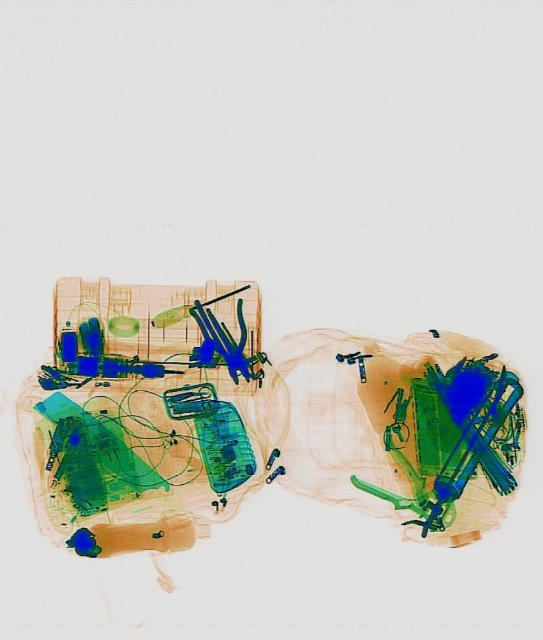Pliers: (185, 286, 269, 394)
